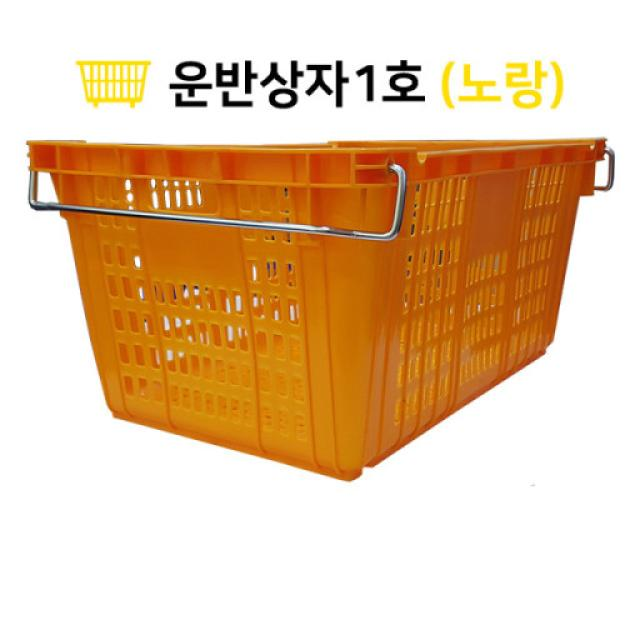basket: (29, 138, 616, 481)
